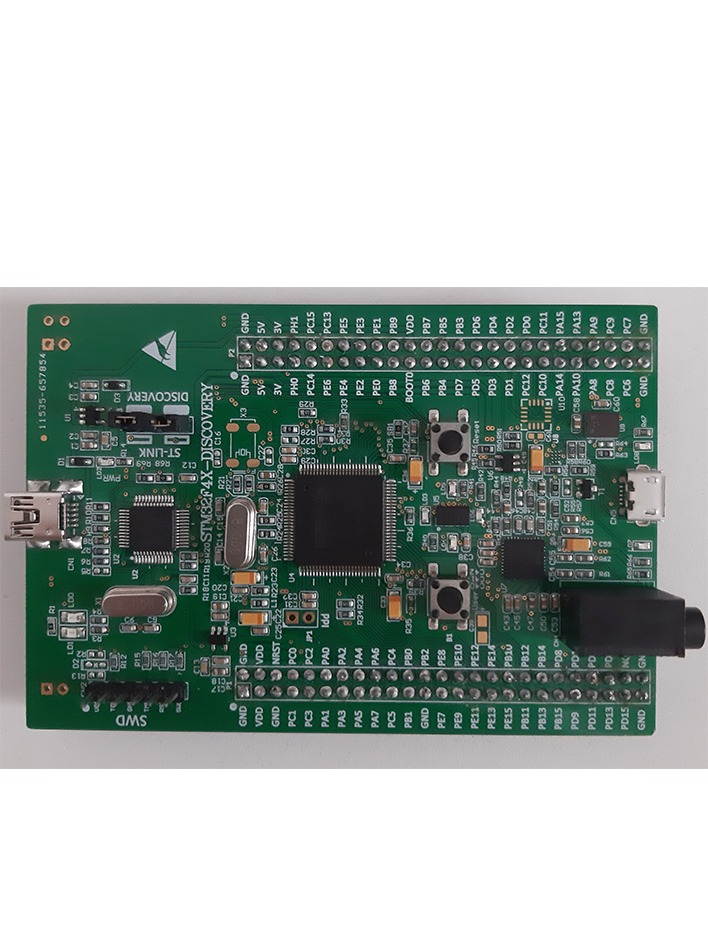STM32F4-DISC: (2, 292, 708, 787)
